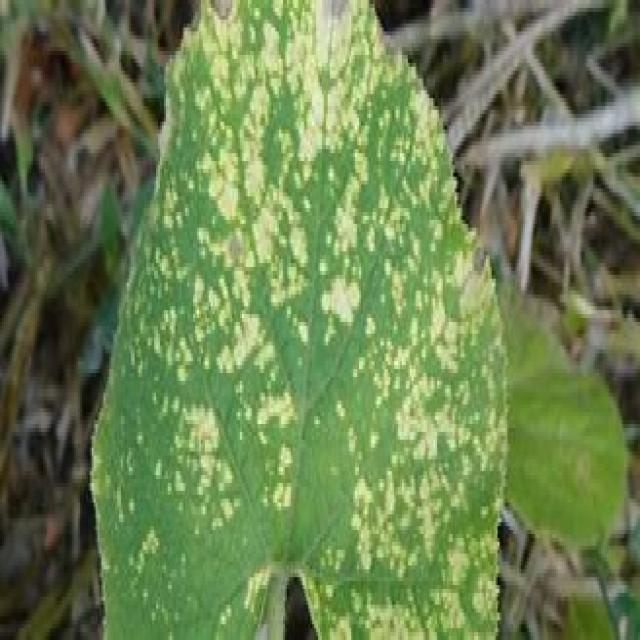Leaf_Mold: (126, 69, 467, 518)
